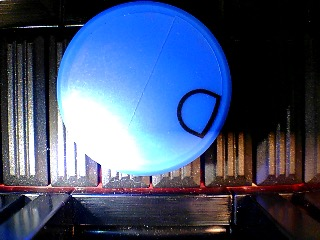MIPO1: (56, 2, 230, 177)
